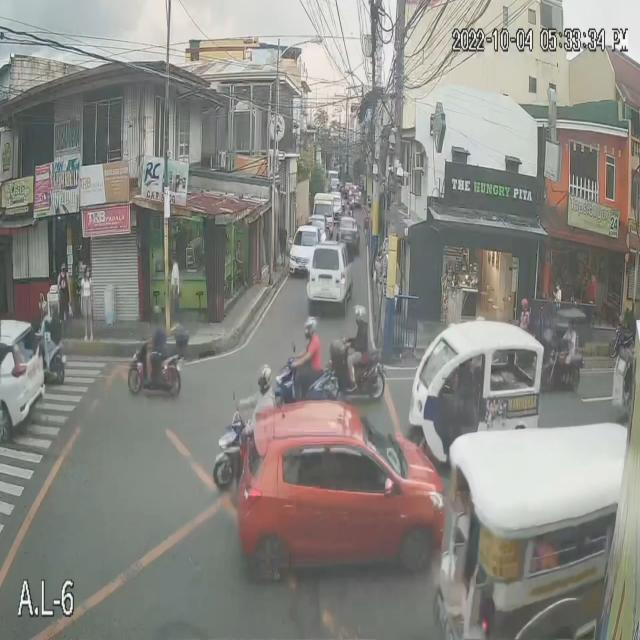Full-Faced: (146, 306, 167, 330), (302, 315, 317, 341), (258, 367, 272, 390)
Half-Faced: (352, 304, 368, 328)
